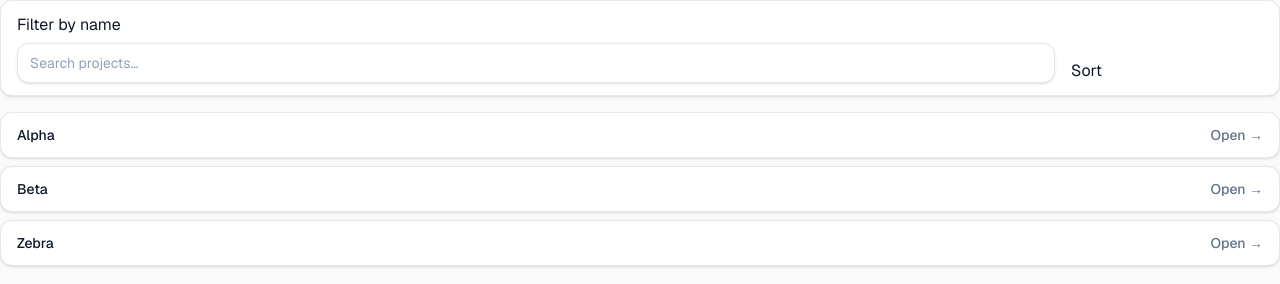
Test: TeamProjectsListConnector › filters projects by search query (case-insensitive)
Type "alp" into the search field at coordinates (536, 63), box x1=17 y1=43 x2=1055 y2=83
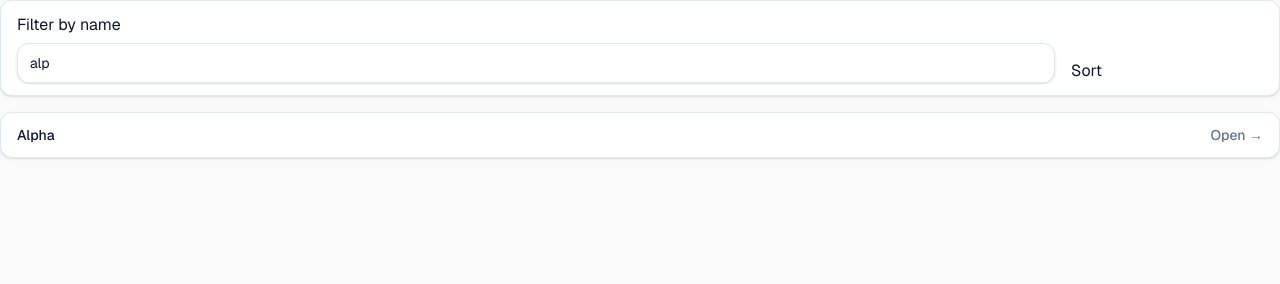
Expected: the text "Alpha" is shown, x1=17 y1=125 x2=55 y2=145
Now the link "Beta" is gone
Now the link "Zebra" is gone
